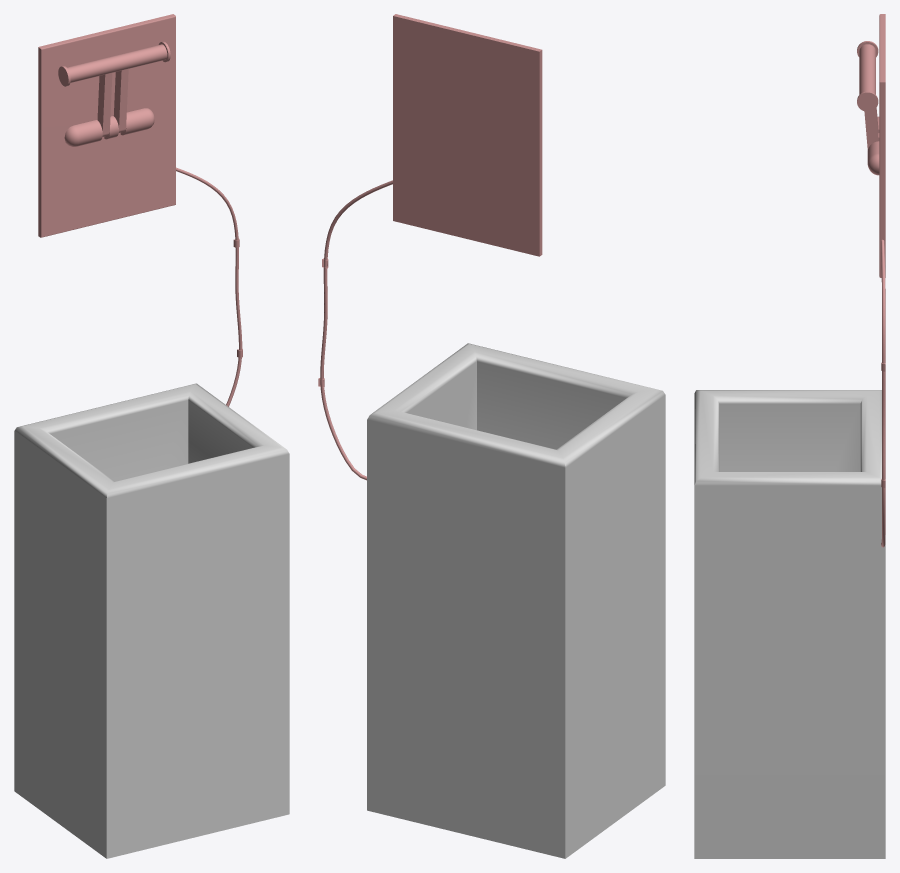
The model's file is SM_trash 1.fbx.
3 renders of one model, left to right at view 1: azimuth 30°, elevation 25°; view 2: azimuth 150°, elevation 25°; view 3: azimuth 270°, elevation 25°, orthographic. The views are drawn at different scales.
Visible parts, largest first — view 1: SM_trash, SM_trash_lever; view 2: SM_trash; view 3: SM_trash, SM_trash_lever.
Part boxes in pixels (left/top/right/bottom): SM_trash: left=14, top=14, right=289, bottom=858; SM_trash_lever: left=58, top=41, right=170, bottom=136; SM_trash: left=318, top=14, right=665, bottom=858; SM_trash: left=694, top=14, right=885, bottom=858; SM_trash_lever: left=857, top=41, right=878, bottom=150.
Bounding box in the file's own units: 49.83 × 154 × 35.
